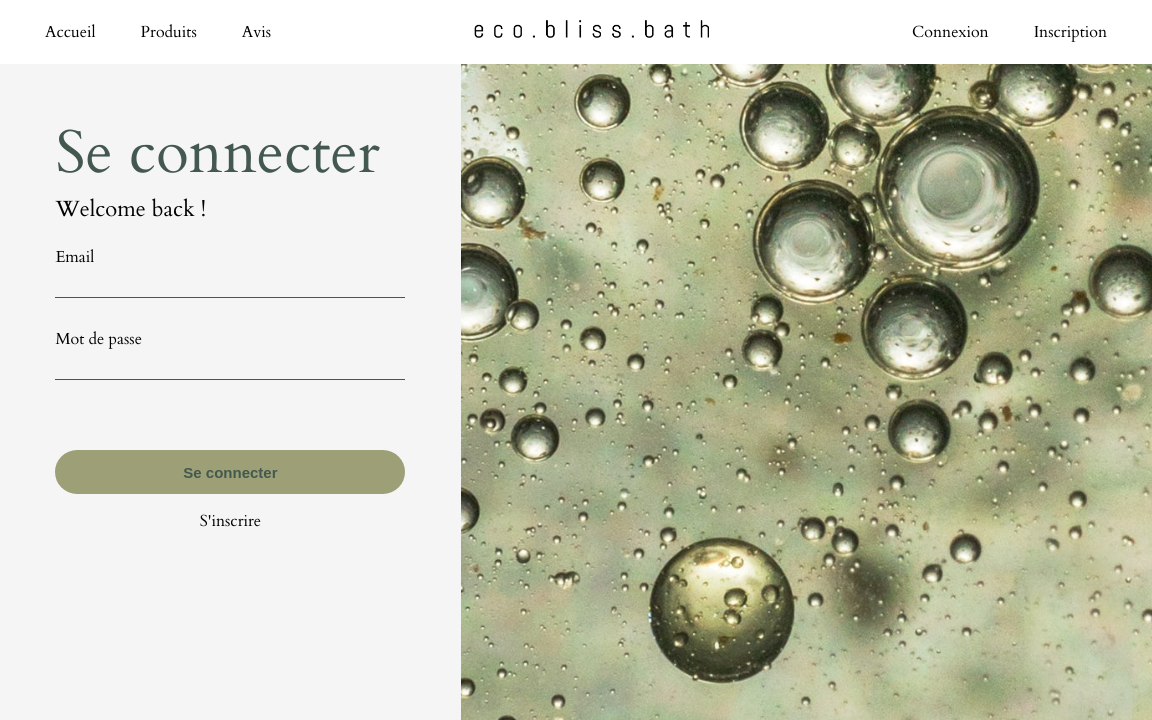
Test case: Smoke test › Présence des boutons d'ajout au panier quand connecté et présence du champ de disponibilité du produit
In the field with test id "login-input-username": (230, 283) [55,268,405,298], type "test2@test.fr"
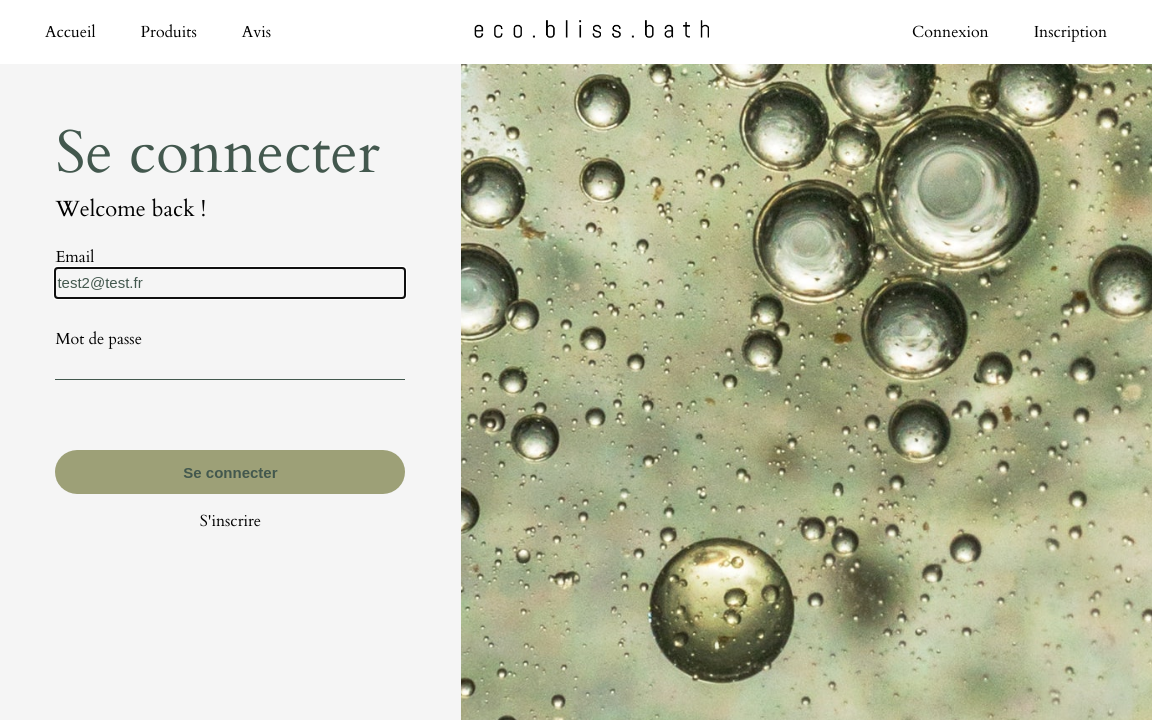
In the password field with test id "login-input-password": (230, 365) [55,350,405,380], type "testtest"
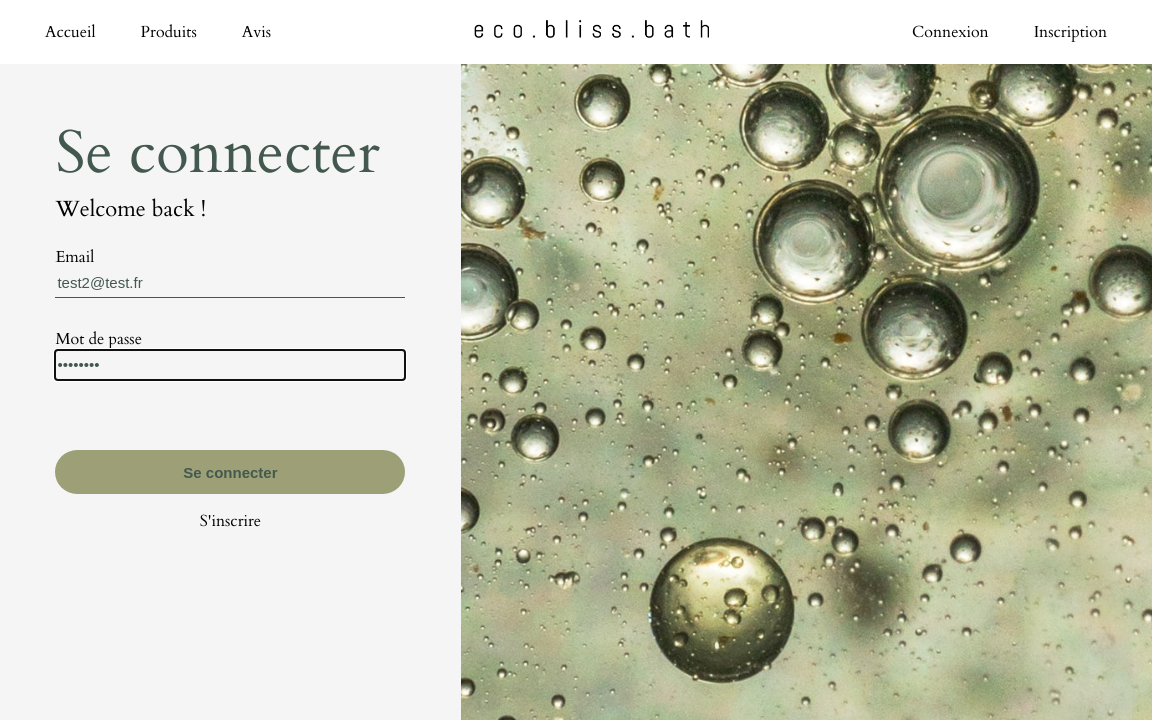
Click the button with test id "login-submit": (230, 472) [55,450,405,494]
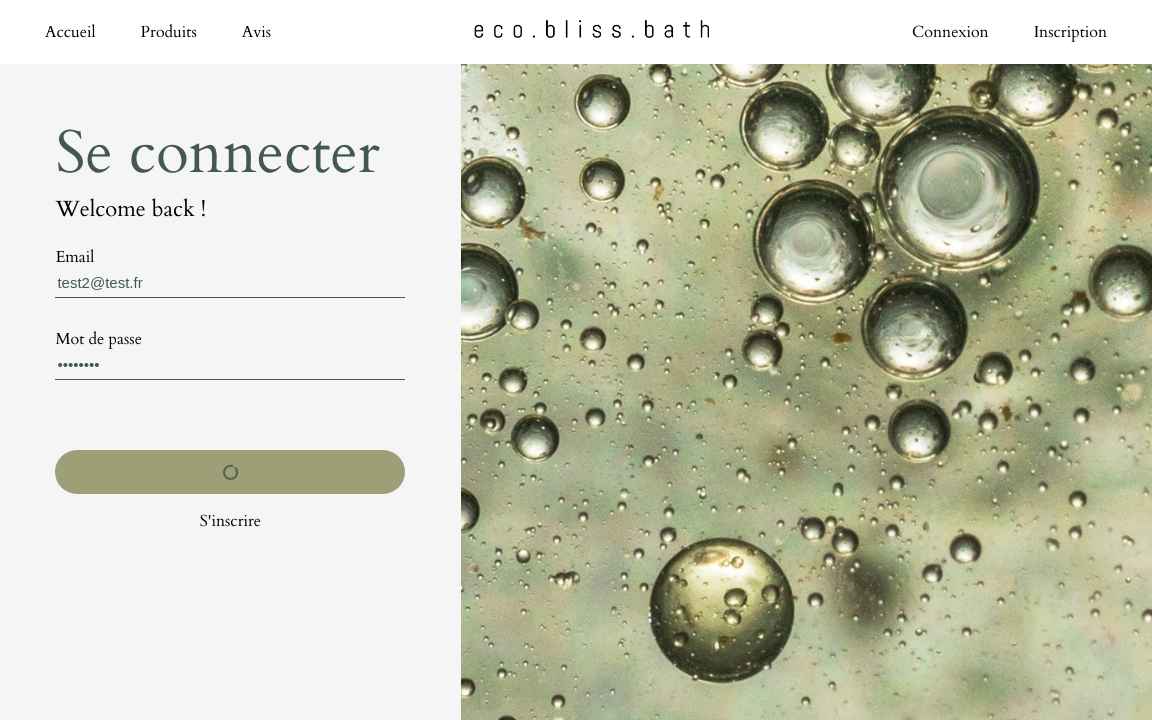
Open "http://localhost:8080/#/products/3"
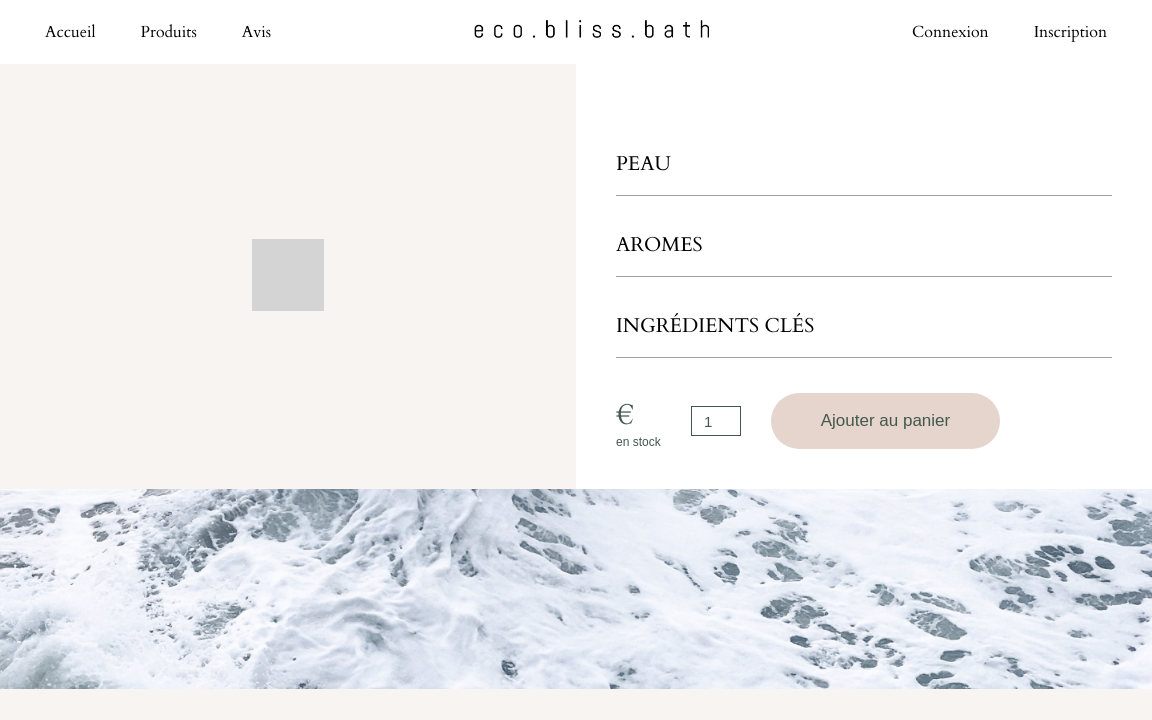
Result: the text "en stock" is shown at [616,434,661,448]
Result: the text "€" is shown at [616,394,634,434]
Result: the number field with test id "detail-product-quantity" is shown at [691,406,741,436]
